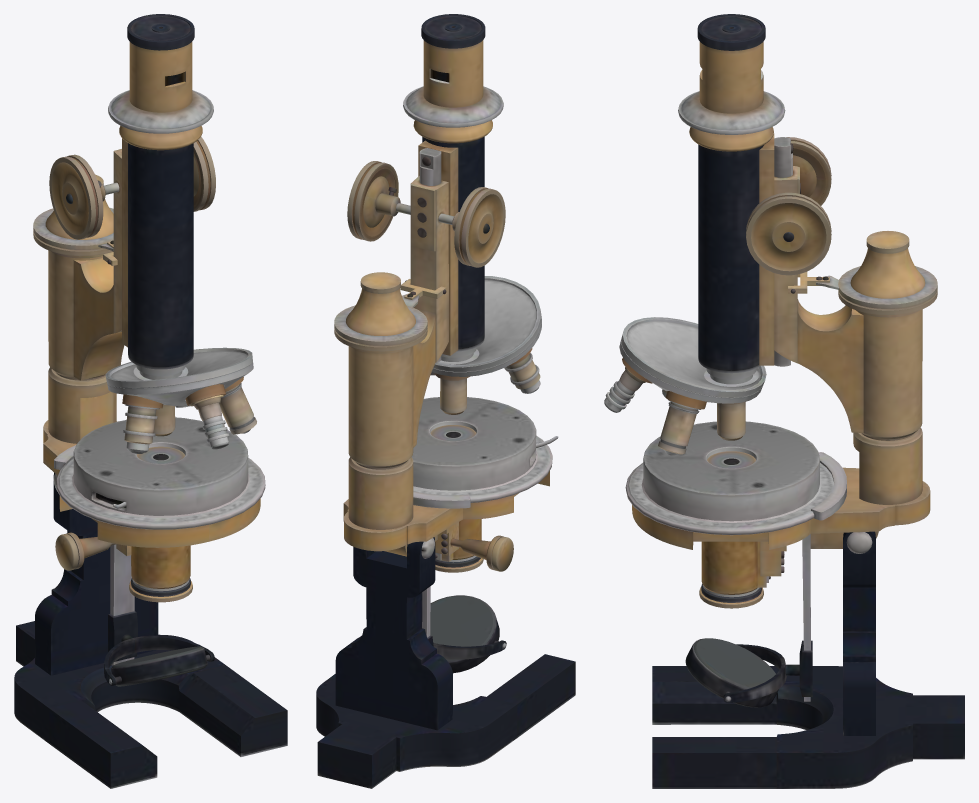
File: sample-model.glb
The picture shows the model from 3 angles, left to right: view 1: azimuth 30°, elevation 25°; view 2: azimuth 150°, elevation 25°; view 3: azimuth 270°, elevation 25°; orthographic projection. The views are drawn at different scales.
Visible parts, largest first — view 1: vintage_microscope_rack_mount_support, vintage_microscope_eye_piece, vintage_microscope_base, vintage_microscope_revolver, vintage_microscope_adjustment, vintage_microscope_mirror_arm, vintage_microscope_condenser, vintage_microscope_mirror_base; view 2: vintage_microscope_rack_mount_support, vintage_microscope_base, vintage_microscope_eye_piece, vintage_microscope_adjustment, vintage_microscope_mirror_base, vintage_microscope_revolver, vintage_microscope_condenser, vintage_microscope_mirror_arm; view 3: vintage_microscope_rack_mount_support, vintage_microscope_base, vintage_microscope_eye_piece, vintage_microscope_adjustment, vintage_microscope_revolver, vintage_microscope_condenser, vintage_microscope_mirror_base, vintage_microscope_mirror_arm.
Boxes of the visible parts, left/top/right/bottom form: vintage_microscope_rack_mount_support: left=33, top=149, right=265, bottom=570; vintage_microscope_eye_piece: left=105, top=14, right=252, bottom=388; vintage_microscope_base: left=14, top=472, right=287, bottom=788; vintage_microscope_revolver: left=107, top=362, right=256, bottom=453; vintage_microscope_adjustment: left=49, top=136, right=215, bottom=239; vintage_microscope_mirror_arm: left=104, top=544, right=214, bottom=685; vintage_microscope_condenser: left=129, top=446, right=192, bottom=602; vintage_microscope_mirror_base: left=111, top=646, right=207, bottom=686; vintage_microscope_rack_mount_support: left=334, top=176, right=558, bottom=571; vintage_microscope_base: left=316, top=537, right=575, bottom=788; vintage_microscope_eye_piece: left=403, top=14, right=541, bottom=371; vintage_microscope_adjustment: left=347, top=161, right=505, bottom=267; vintage_microscope_mirror_base: left=430, top=595, right=499, bottom=673; vintage_microscope_revolver: left=430, top=316, right=541, bottom=414; vintage_microscope_condenser: left=430, top=425, right=483, bottom=572; vintage_microscope_mirror_arm: left=422, top=586, right=506, bottom=659; vintage_microscope_rack_mount_support: left=625, top=166, right=937, bottom=576; vintage_microscope_base: left=652, top=531, right=964, bottom=788; vintage_microscope_eye_piece: left=621, top=14, right=793, bottom=397; vintage_microscope_adjustment: left=746, top=137, right=831, bottom=275; vintage_microscope_revolver: left=604, top=337, right=762, bottom=455; vintage_microscope_condenser: left=699, top=451, right=770, bottom=608; vintage_microscope_mirror_base: left=685, top=638, right=778, bottom=707; vintage_microscope_mirror_arm: left=723, top=534, right=812, bottom=702.
Bounding box in the file's own units: 0.1068 × 0.3996 × 0.1819.
Materials: 2 (2 with a texture image).
